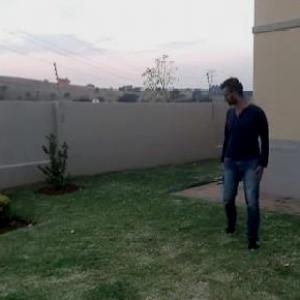follow: (214, 73, 274, 252)
